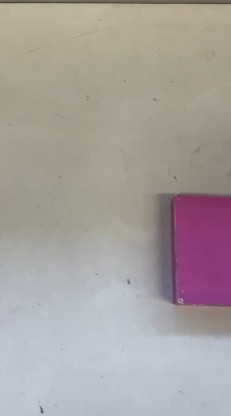pink: (158, 195, 229, 302)
